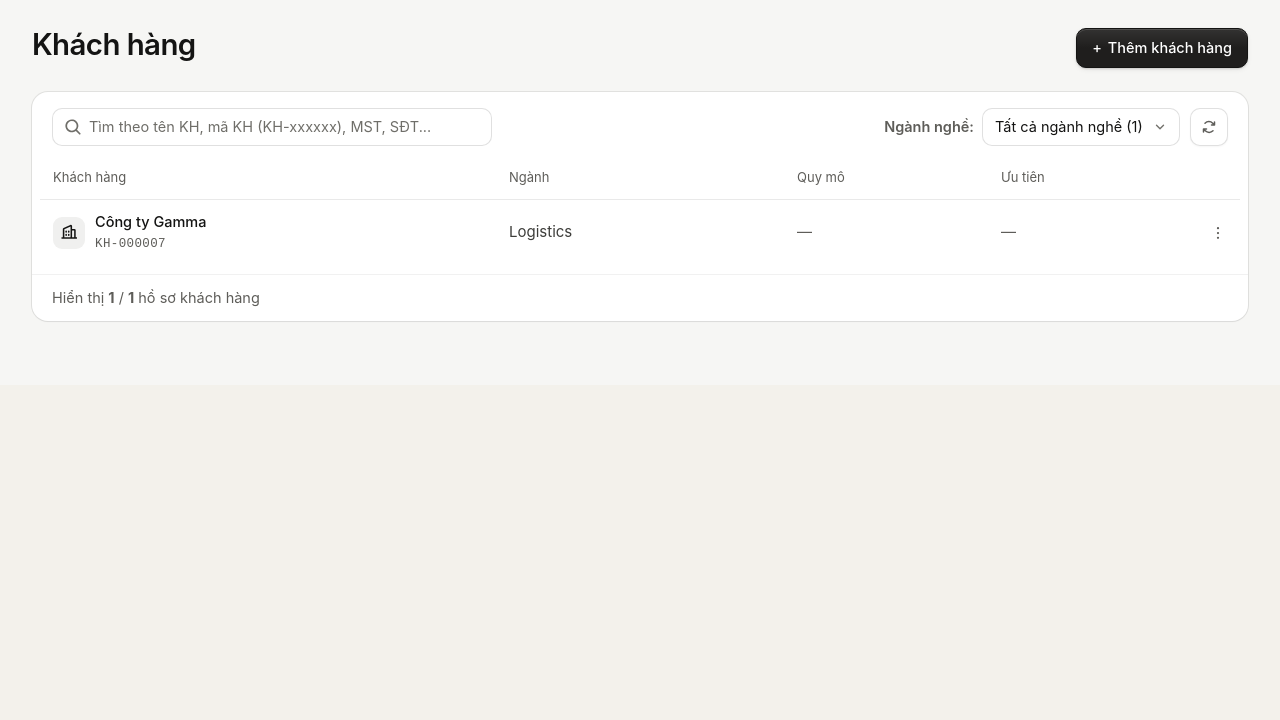
Test: CustomerListPage Component (NCL-02-CN-001-CV-05) › Chỉnh sửa hồ sơ khách hàng › mở menu → "Chỉnh sửa hồ sơ" → lưu thành công cập nhật ngay dòng trong bảng
The width and height of the screenshot is (1280, 720).
Click the button named "Thao tác cho Công ty Gamma" at (1218, 232), box [1202,216,1234,248]
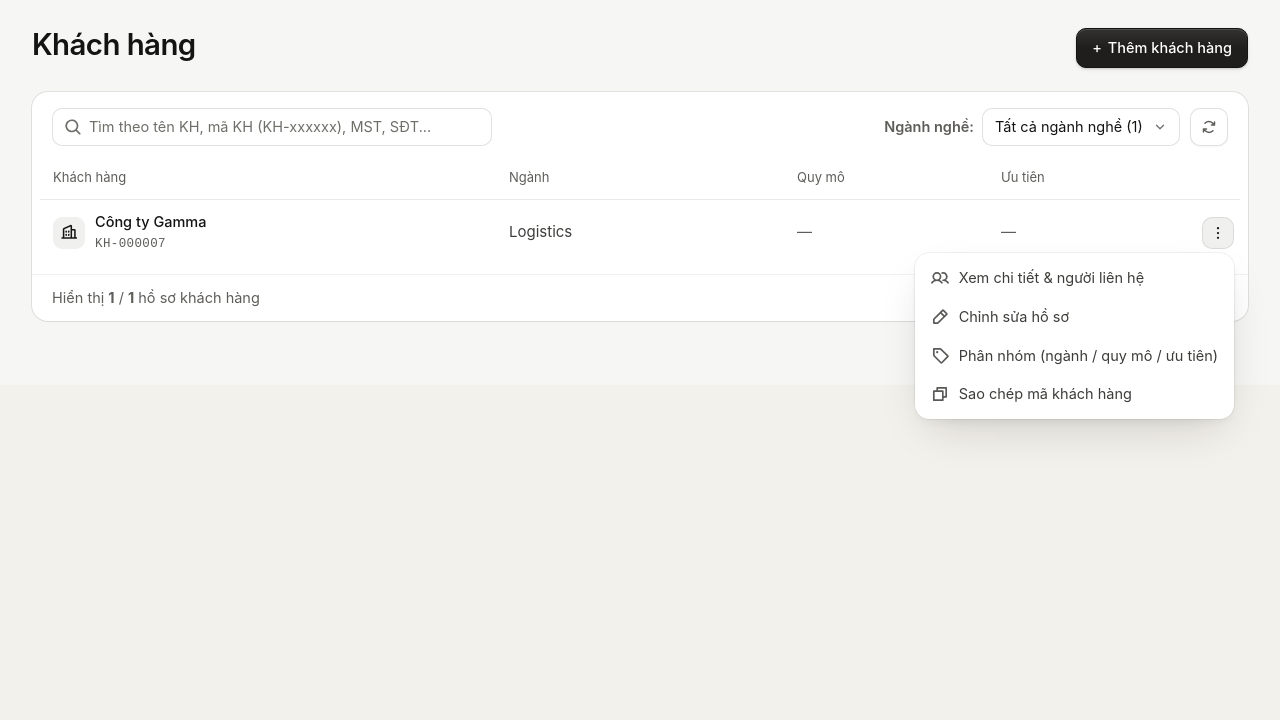
Click the menu item with test id "btn-edit-7" at (1014, 316), box [921,298,1228,336]
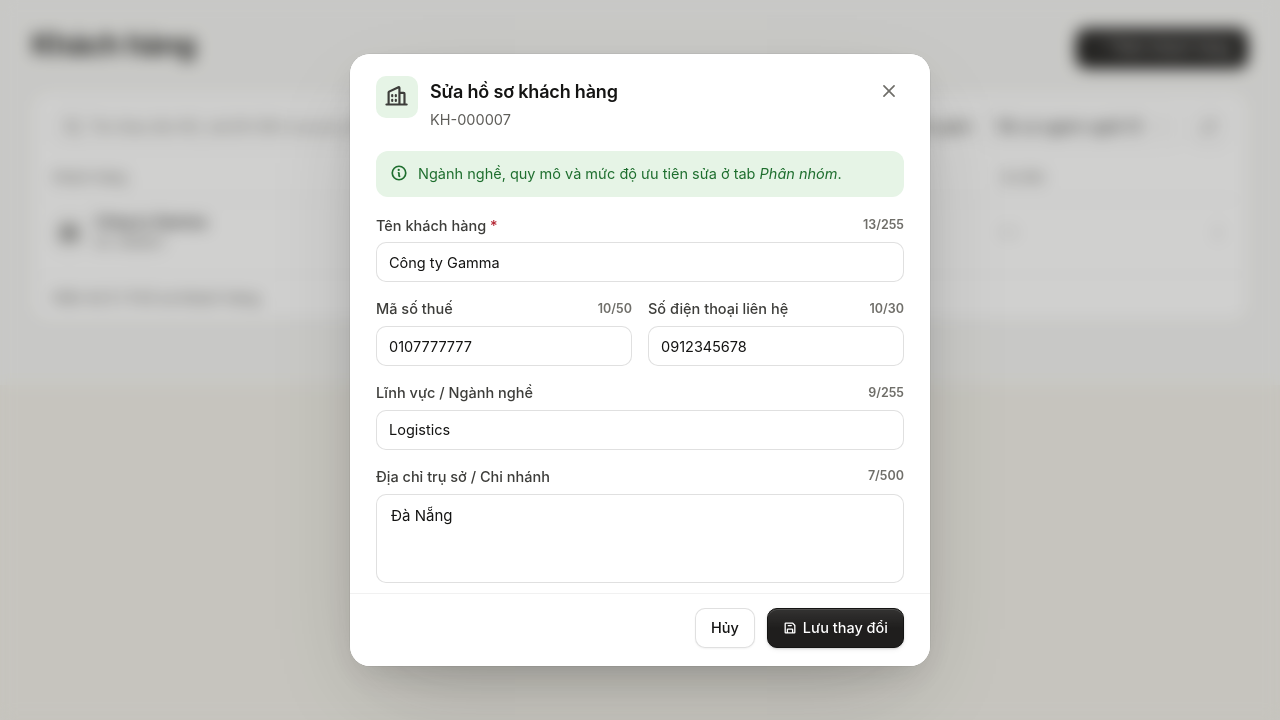
Expected: the field labelled "Tên khách hàng" holds "Công ty Gamma"
Replace the text in the field labelled "Tên khách hàng" with "Công ty Gamma (đã đổi tên)" at (640, 262), box [376,242,904,282]
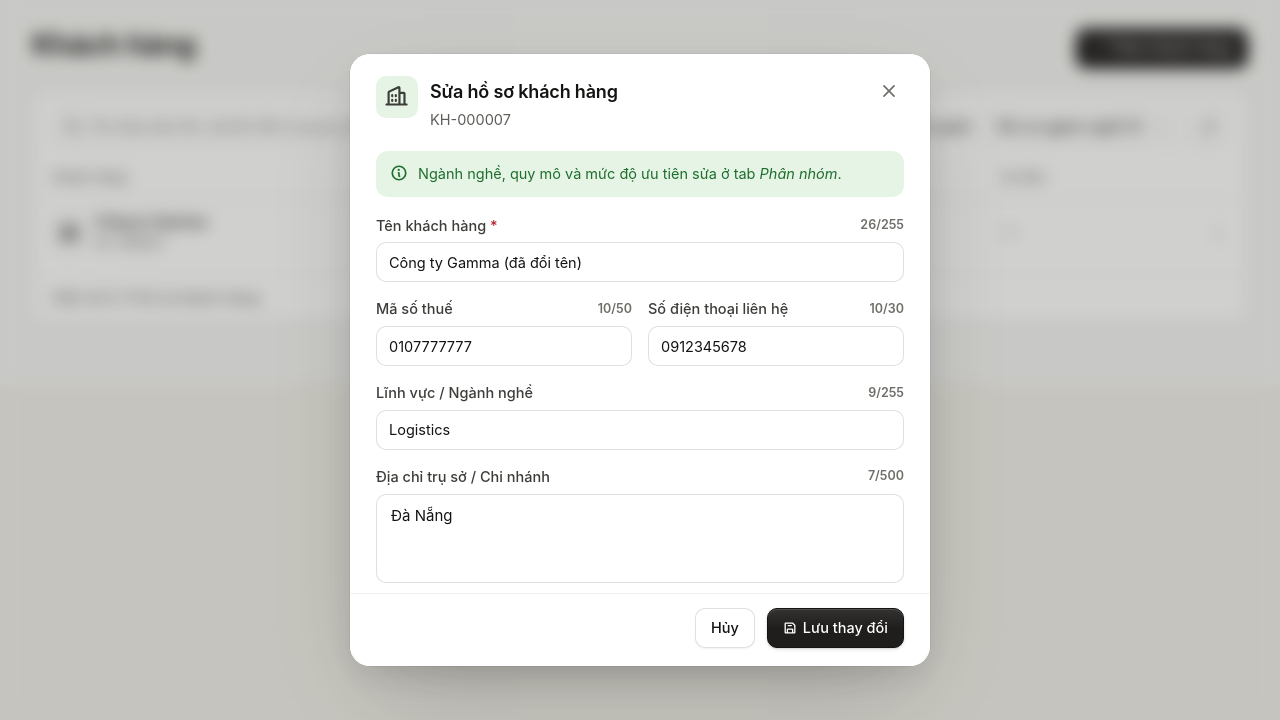
Click the button "Lưu thay đổi" at (835, 628), box [767,608,904,648]
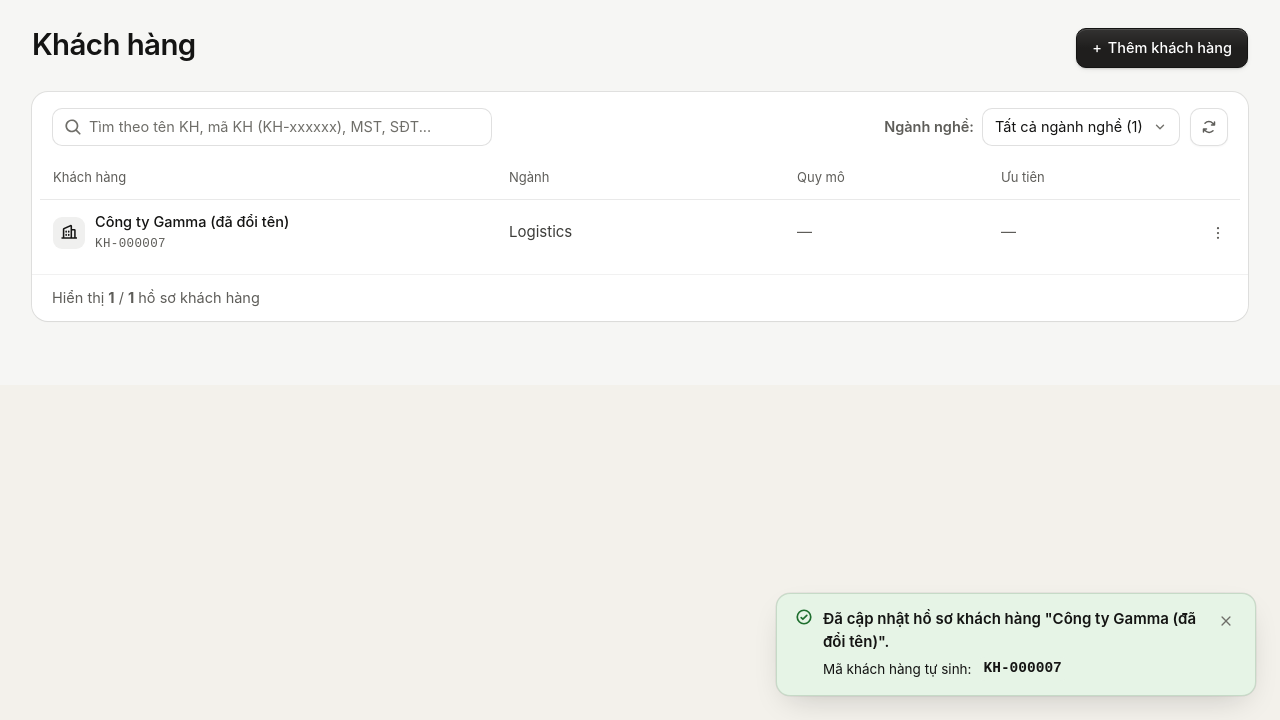
Expected: the button "Công ty Gamma (đã đổi tên)" is shown, [95,211,289,233]
